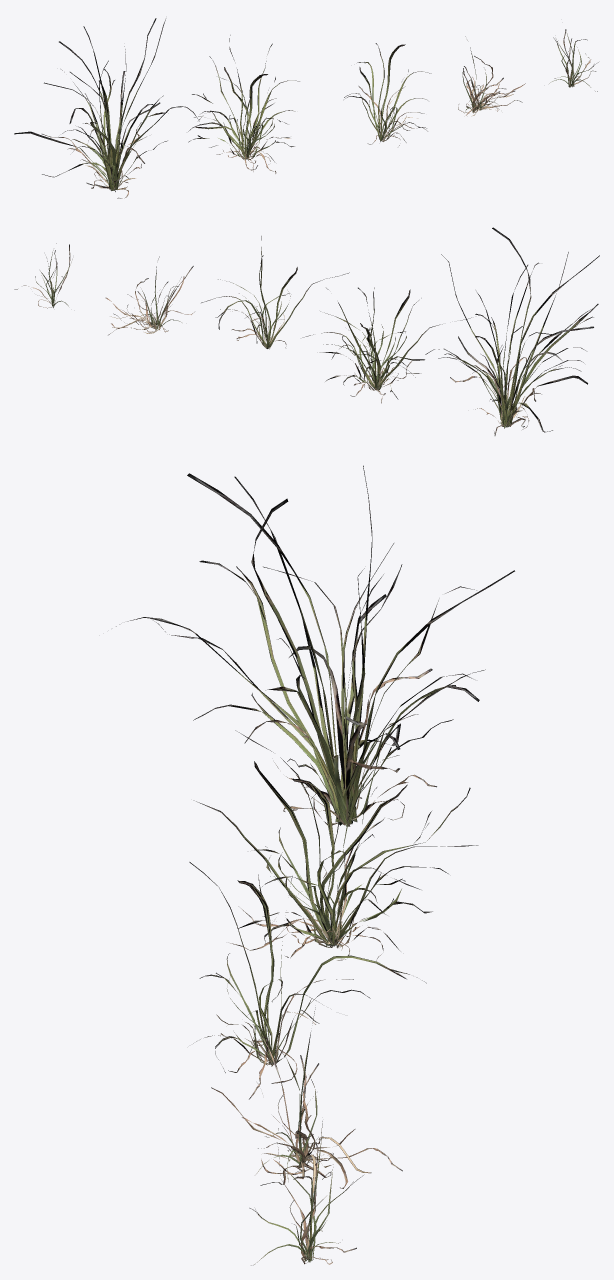
Rendered from grass_medium_02.glb.
3 renders of one model, top to bottom at view 1: azimuth 30°, elevation 25°; view 2: azimuth 150°, elevation 25°; view 3: azimuth 270°, elevation 25°, orthographic. The views are drawn at different scales.
Parts seen in each view (by area): view 1: grass_medium_02_e, grass_medium_02_d, grass_medium_02_c, grass_medium_02_b, grass_medium_02_a; view 2: grass_medium_02_e, grass_medium_02_d, grass_medium_02_c, grass_medium_02_b, grass_medium_02_a; view 3: grass_medium_02_e, grass_medium_02_d, grass_medium_02_c, grass_medium_02_b, grass_medium_02_a.
Part boxes in pixels (<box>): grass_medium_02_e: <box>14,18,199,198</box>; grass_medium_02_d: <box>188,35,299,173</box>; grass_medium_02_c: <box>344,43,431,145</box>; grass_medium_02_b: <box>458,36,525,116</box>; grass_medium_02_a: <box>549,29,598,91</box>; grass_medium_02_e: <box>425,227,599,435</box>; grass_medium_02_d: <box>302,287,471,403</box>; grass_medium_02_c: <box>201,236,349,349</box>; grass_medium_02_b: <box>105,256,194,335</box>; grass_medium_02_a: <box>14,243,72,308</box>; grass_medium_02_e: <box>116,465,514,826</box>; grass_medium_02_d: <box>193,723,478,961</box>; grass_medium_02_c: <box>189,862,426,1099</box>; grass_medium_02_b: <box>211,1007,402,1193</box>; grass_medium_02_a: <box>249,1121,363,1265</box>.
Size of the model in its own units: 1.35 by 0.4034 by 0.4317.
1 material, 1 textured.
